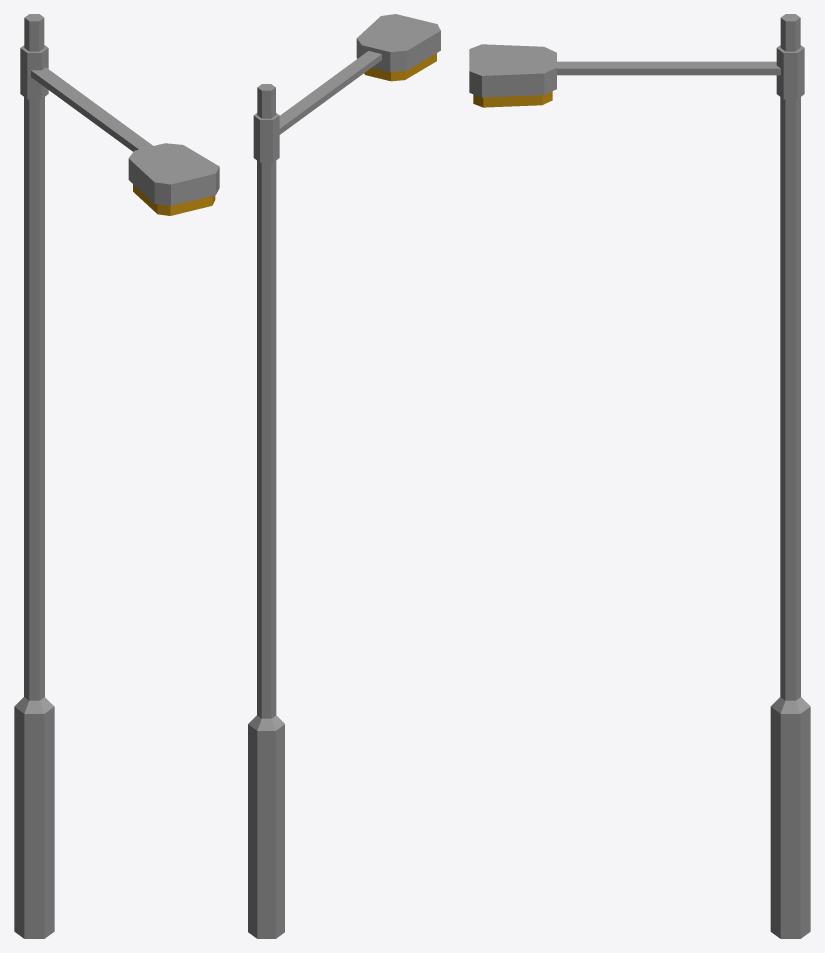
Rendered from SM_streetlamp_police.fbx.
3 renders of one model, left to right at view 1: azimuth 30°, elevation 25°; view 2: azimuth 150°, elevation 25°; view 3: azimuth 270°, elevation 25°, orthographic. The views are drawn at different scales.
Parts seen in each view (by area): view 1: Cylinder017; view 2: Cylinder017; view 3: Cylinder017.
Part boxes in pixels (x1,y1,x2,y2): Cylinder017: [14, 14, 219, 938]; Cylinder017: [248, 14, 440, 938]; Cylinder017: [469, 14, 810, 938].
Size of the model in its own units: 12.21 by 164 by 55.56.
